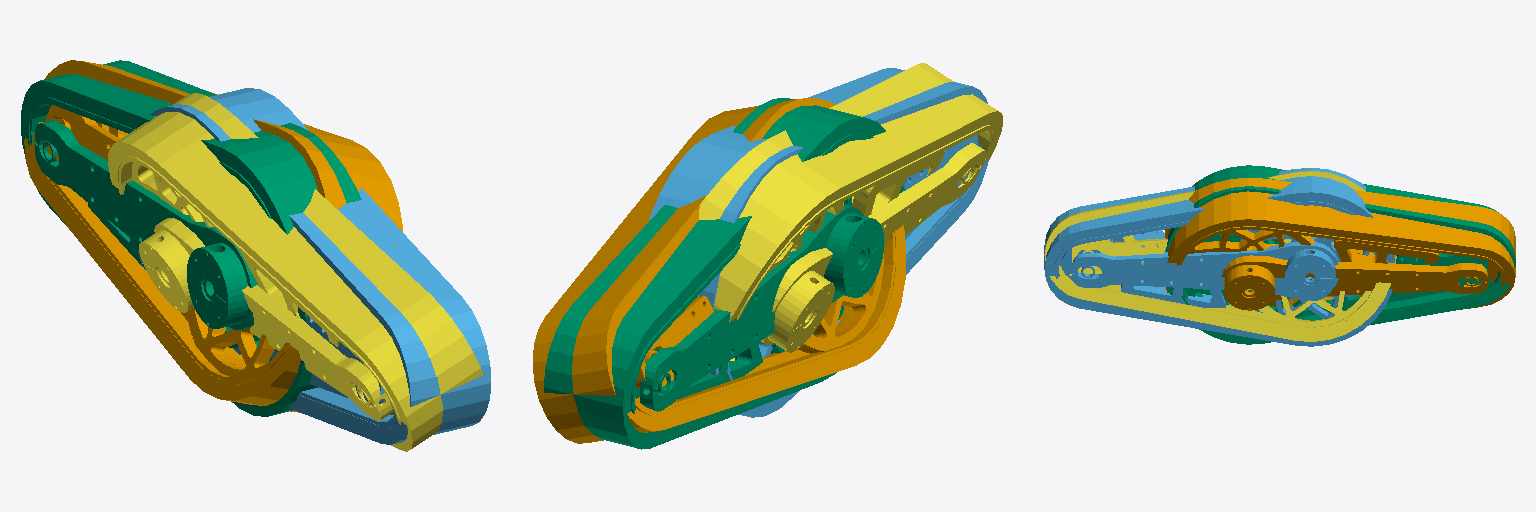
The robot description file, URDF, robot "NIFTi":
<?xml version="1.0" ?>
<!-- =================================================================================== -->
<!-- |    This document was autogenerated by xacro from [local-path]/dev/catkin_ws/src/jaguar_ws/nifti_robot_description/urdf/nifti_robot.xacro | -->
<!-- =================================================================================== -->
<robot name="NIFTi">
<!-- MEASURED CONSTANTS -->
	<!-- SPECIAL LINKS -->
	<!-- This is a virtual link that specifies the origin to which parts attachable to the top of the robot should be related. -->
	<link name="rear_right_box"/>
	<joint name="rear_right_box_j" type="fixed">
		<parent link="base_link"/>
		<child link="rear_right_box"/>
		<origin rpy="0 0 0" xyz="-0.379 -0.1265 0.185"/>
	</joint>
	<!-- INCLUDES -->
	<!-- The included models should have collision elements specified for all physical links to be filtered out by laser filtering. -->
	<!-- MACRO SPECIFICATIONS -->
	<!-- NIFTI ROBOT LINKS AND JOINTS SPECIFICATION -->
	<link name="base_link">
		<visual>
			<origin rpy="0 0 0" xyz="0 0 0"/>
			<geometry>
				<mesh filename="package://nifti_robot_description/meshes/body.dae" scale="1.0 1.0 1.0"/>
			</geometry>
		</visual>
		<collision>
			<origin rpy="0 0 0" xyz="-0.1220 0 0.118"/>
			<geometry>
				<box size="0.50017 0.24093 0.1390"/>
			</geometry>
		</collision>
		<collision>
			<origin rpy="0 0 0" xyz="0.157 0 0.118"/>
			<geometry>
				<box size="0.056 0.12093 0.1390"/>
			</geometry>
		</collision>
		<collision>
			<origin rpy="0 0 0.785398" xyz="0.144 -0.076 0.118"/>
			<geometry>
				<box size="0.083 0.040 0.1390"/>
			</geometry>
		</collision>
		<collision>
			<origin rpy="0 0 -0.785398" xyz="0.144 0.076 0.118"/>
			<geometry>
				<box size="0.083 0.040 0.1390"/>
			</geometry>
		</collision>
		<collision>
			<origin rpy="0 0 0" xyz="0 0.135 0.09"/>
			<geometry>
				<box size="0.055 0.040 0.08"/>
			</geometry>
		</collision>
		<collision>
			<origin rpy="0 0 0" xyz="0 0.155 0.013"/>
			<geometry>
				<box size="0.055 0.020 0.075"/>
			</geometry>
		</collision>
		<collision>
			<origin rpy="0 0 0" xyz="0 -0.135 0.09"/>
			<geometry>
				<box size="0.055 0.040 0.08"/>
			</geometry>
		</collision>
		<collision>
			<origin rpy="0 0 0" xyz="0 -0.155 0.013"/>
			<geometry>
				<box size="0.055 0.020 0.075"/>
			</geometry>
		</collision>
		<collision>
			<origin rpy="0 0 0" xyz="-0.13 0 0.418"/>
			<geometry>
				<box size="0.65 0.35 0.6"/>
			</geometry>
		</collision>
		<inertial>
			<origin rpy="0 0 0" xyz="-0.034 0 0.142"/>
			<mass value="6.746"/>
			<inertia ixx="0.0069904" ixy="0.00012271" ixz="-4.2725e-05" iyy="0.02129" iyz="-0.00010522" izz="0.025519"/>
		</inertial>
	</link>
	<link name="battery">
		<visual>
			<origin rpy="0 0 0" xyz="0 0 0"/>
			<geometry>
				<mesh filename="package://nifti_robot_description/meshes/battery.dae" scale="1.0 1.0 1.0"/>
			</geometry>
		</visual>
		<collision>
			<origin rpy="0 0 0" xyz="0 0 0.0410"/>
			<geometry>
				<box size="0.1450 0.1350 0.0820"/>
			</geometry>
		</collision>
		<inertial>
			<origin rpy="0 0 0" xyz="0 0 0.041"/>
			<mass value="3.18"/>
			<inertia ixx="0.0020793" ixy="0.0" ixz="0.0" iyy="0.0023127" iyz="0.0" izz="0.0032712"/>
		</inertial>
	</link>
	<joint name="battery_j" type="fixed">
		<parent link="base_link"/>
		<child link="battery"/>
		<origin rpy="0 0 0" xyz="-0.2836 -0.0221 0.0722"/>
	</joint>
	<link name="top_box">
		<visual>
			<origin rpy="0 0 0" xyz="0 0 0"/>
			<geometry>
				<mesh filename="package://nifti_robot_description/meshes/top_box.dae" scale="1.0 1.0 1.0"/>
			</geometry>
		</visual>
		<collision>
			<origin rpy="0 0 0" xyz="-0.0290 0 0.0315"/>
			<geometry>
				<box size="0.2000 0.1330 0.06252"/>
			</geometry>
		</collision>
		<collision>
			<origin rpy="0 0 0" xyz="-0.09824 0.04127 0.0690"/>
			<geometry>
				<box size="0.0440 0.0440 0.01303"/>
			</geometry>
		</collision>
		<collision>
			<origin rpy="0 0 0" xyz="-0.07383 -0.04222 0.07996"/>
			<geometry>
				<box size="0.03732 0.03523 0.03489"/>
			</geometry>
		</collision>
		<inertial>
			<origin rpy="0 0 0" xyz="0 0 0.041"/>
			<mass value="0.24"/>
			<inertia ixx="0.0026136" ixy="0.0" ixz="0.0" iyy="0.0049426" iyz="0.0" izz="0.0070334"/>
		</inertial>
	</link>
	<joint name="top_box_j" type="fixed">
		<parent link="rear_right_box"/>
		<child link="top_box"/>
		<!-- Origin of top box is 0.071 m from the front side. And top_box_j_x is distance from robot's back to top box' front. -->
		<origin rpy="0 0 0" xyz="0.372 0.0708 0.0"/>
	</joint>
	<link name="antenna">
		<visual>
			<origin rpy="0 0 0" xyz="0 0 0"/>
			<geometry>
				<mesh filename="package://nifti_robot_description/meshes/antenna.dae" scale="1.0 1.0 1.0"/>
			</geometry>
		</visual>
		<collision>
			<origin rpy="0 1.5707963267 0" xyz="-0.01864 0 0"/>
			<geometry>
				<cylinder length="0.03718" radius="0.008"/>
			</geometry>
		</collision>
		<collision>
			<origin rpy="0 0 0" xyz="-0.030 0 0.19053"/>
			<geometry>
				<cylinder length="0.38107" radius="0.008"/>
			</geometry>
		</collision>
		<inertial>
			<origin rpy="0 0 0" xyz="-0.022 0.0203 0.02917"/>
			<mass value="0.56"/>
			<inertia ixx="0.004878" ixy="-6.2341e-07" ixz="-7.4538e-07" iyy="0.00090164" iyz="-0.00014394" izz="0.0042946"/>
		</inertial>
	</link>
	<joint name="antenna_j" type="fixed">
		<parent link="base_link"/>
		<child link="antenna"/>
		<origin rpy="0 0 0" xyz="-0.3720 0.0789 0.1551"/>
	</joint>
	<link name="centroid"/>
    <joint name="centroid_j" type="fixed">
      <parent link="base_link"/>
      <child link="centroid"/>
      <origin rpy="0      0     0" xyz="0    0.0  0.0705"/>
      <limit effort="0" lower="0" upper="0" velocity="0"/>
    </joint>
	<link name="left_track">
		<visual>
			<origin rpy="1.5707963267 0 1.5707963267" xyz="0 0 -0.0705"/>
			<geometry>
				<mesh filename="package://nifti_robot_description/meshes/bogie.dae" scale="1.0 1.0 1.0"/>
			</geometry>
		</visual>
		<collision>
			<origin rpy="1.5707963267 0 1.5707963267" xyz="0 0 0.01855"/>
			<geometry>
				<box size="0.09728 0.18094 0.50000"/>
			</geometry>
		</collision>
		<collision>
			<origin rpy="1.5707963267 0 0" xyz="0.25 -0.015 0.01855"/>
			<geometry>
				<!-- enlarged because of laser filtering problems -->
				<cylinder length="0.11228" radius="0.09047"/>
			</geometry>
		</collision>
		<collision>
			<origin rpy="1.5707963267 0 0" xyz="-0.25 0 0.01855"/>
			<geometry>
				<cylinder length="0.09728" radius="0.09047"/>
			</geometry>
		</collision>
		<inertial>
			<origin rpy="0 0 0" xyz="0 0 0.0141"/>
			<mass value="6.06"/>
			<inertia ixx="0.002731" ixy="0.0" ixz="0.0" iyy="0.032554" iyz="1.5e-05" izz="0.031391"/>
		</inertial>
	</link>
	<joint name="left_track_j" type="revolute">
		<parent link="base_link"/>
		<child link="left_track"/>
		<axis xyz="0 1 0"/>
		<origin rpy="0 0.0 0" xyz="0 0.1985 0"/>
		<limit effort="0" lower="0" upper="0" velocity="4"/>
		<!--<limit lower="-0.7" upper="0.7" effort="0" velocity="4" />-->
	</joint>
	<link name="right_track">
		<visual>
			<origin rpy="1.5707963267 0 -1.5707963267" xyz="0 0 -0.0705"/>
			<geometry>
				<mesh filename="package://nifti_robot_description/meshes/bogie.dae" scale="1.0 1.0 1.0"/>
			</geometry>
		</visual>
		<collision>
			<origin rpy="1.5707963267 0 1.5707963267" xyz="0 0 0.01855"/>
			<geometry>
				<box size="0.09728 0.18094 0.50000"/>
			</geometry>
		</collision>
		<collision>
			<origin rpy="1.5707963267 0 0" xyz="0.25 0.015 0.01855"/>
			<geometry>
				<!-- enlarged because of laser filtering problems -->
				<cylinder length="0.11228" radius="0.09047"/>
			</geometry>
		</collision>
		<collision>
			<origin rpy="1.5707963267 0 0" xyz="-0.25 0 0.01855"/>
			<geometry>
				<cylinder length="0.09728" radius="0.09047"/>
			</geometry>
		</collision>
		<inertial>
			<origin rpy="0 0 0" xyz="0 0 0.0141"/>
			<mass value="6.06"/>
			<inertia ixx="0.002731" ixy="0.0" ixz="0.0" iyy="0.032554" iyz="1.5e-05" izz="0.031391"/>
		</inertial>
	</link>
	<joint name="right_track_j" type="revolute">
		<parent link="base_link"/>
		<child link="right_track"/>
		<axis xyz="0 1 0"/>
		<origin rpy="0 0.0 0" xyz="0 -0.1985 0"/>
		<limit effort="0" lower="0" upper="0" velocity="4"/>
		<!--<limit lower="-0.7" upper="0.7" effort="0" velocity="4" />-->
	</joint>
	<link name="front_left_flipper">
		<visual>
			<origin rpy="3.32575 0 1.5707963267" xyz="0 0 0"/>
			<geometry>
				<mesh filename="package://nifti_robot_description/meshes/flipper.dae" scale="1.0 1.0 1.0"/>
			</geometry>
		</visual>
		<collision>
			<origin rpy="1.5707963267 0 0" xyz="0 -0.0185 0"/>
			<geometry>
				<cylinder length="0.08681" radius="0.09047"/>
			</geometry>
		</collision>
		<collision>
			<origin rpy="1.5707963267 0 0" xyz="0.33 -0.0185 0.0"/>
			<geometry>
				<cylinder length="0.08681" radius="0.058"/>
			</geometry>
		</collision>
		<collision>
			<origin rpy="0 0.184162095 0.0" xyz="0.165 -0.0185 0.0325"/>
			<geometry>
				<box size="0.33 0.08681 0.11"/>
			</geometry>
		</collision>
		<collision>
			<origin rpy="0 -0.184162095 0.0" xyz="0.165 -0.0185 -0.0325"/>
			<geometry>
				<box size="0.33 0.08681 0.11"/>
			</geometry>
		</collision>
		<collision>
			<origin rpy="0 -0.02 0.0" xyz="0.136 -0.0185 0.004"/>
			<geometry>
				<box size="0.20 0.08681 0.07"/>
			</geometry>
		</collision>
		<inertial>
			<origin rpy="0 0 0" xyz="0.08 0 0.0"/>
			<mass value="0.75"/>
			<inertia ixx="0.0017491" ixy="2.8512e-07" ixz="0.0018277" iyy="0.012277" iyz="-3.6288e-07" izz="0.010941"/>
		</inertial>
	</link>
	<joint name="front_left_flipper_j" type="continuous">
		<parent link="left_track"/>
		<child link="front_left_flipper"/>
		<axis xyz="0 1 0"/>
		<origin rpy="0 0.1937 0" xyz="0.25 0.0735 0.0195"/>
        <limit effort="-1" lower="-1e+16" upper="+1e+16" velocity="1"/>
        <dynamics damping=".5"/>
	</joint>
	<link name="front_right_flipper">
		<visual>
			<origin rpy="3.32575 0 -1.5707963267" xyz="0 0 0"/>
			<geometry>
				<mesh filename="package://nifti_robot_description/meshes/flipper.dae" scale="1.0 1.0 1.0"/>
			</geometry>
		</visual>
		<collision>
			<origin rpy="1.5707963267 0 0" xyz="0 0.0185 0"/>
			<geometry>
				<cylinder length="0.08681" radius="0.09047"/>
			</geometry>
		</collision>
		<collision>
			<origin rpy="1.5707963267 0 0" xyz="-0.33 0.0185 0.0"/>
			<geometry>
				<cylinder length="0.08681" radius="0.058"/>
			</geometry>
		</collision>
		<collision>
			<origin rpy="0 0.184162095 3.1415926534" xyz="-0.165 0.0185 0.0325"/>
			<geometry>
				<box size="0.33 0.08681 0.11"/>
			</geometry>
		</collision>
		<collision>
			<origin rpy="0 -0.184162095 3.1415926534" xyz="-0.165 0.0185 -0.0325"/>
			<geometry>
				<box size="0.33 0.08681 0.11"/>
			</geometry>
		</collision>
		<collision>
			<origin rpy="0 -0.02 3.1415926534" xyz="-0.136 0.0185 0.004"/>
			<geometry>
				<box size="0.20 0.08681 0.07"/>
			</geometry>
		</collision>
		<inertial>
			<origin rpy="0 0 0" xyz="-0.08 0 0.0"/>
			<mass value="0.75"/>
			<inertia ixx="0.0017491" ixy="2.8512e-07" ixz="0.0018277" iyy="0.012277" iyz="-3.6288e-07" izz="0.010941"/>
		</inertial>
	</link>
	<joint name="front_right_flipper_j" type="continuous">
		<parent link="right_track"/>
		<child link="front_right_flipper"/>
		<axis xyz="0 1 0"/>
		<origin rpy="0 -2.9479 0" xyz="0.25 -0.0735 0.0195"/>
        <limit effort="-1" lower="-1e+16" upper="+1e+16" velocity="1"/>
        <dynamics damping=".5"/>
	</joint>
	<link name="rear_left_flipper">
		<visual>
			<origin rpy="3.32575 0 1.5707963267" xyz="0 0 0"/>
			<geometry>
				<mesh filename="package://nifti_robot_description/meshes/flipper.dae" scale="1.0 1.0 1.0"/>
			</geometry>
		</visual>
		<collision>
			<origin rpy="1.5707963267 0 0" xyz="0 -0.0 0"/>
			<geometry>
				<cylinder length="0.04981" radius="0.09047"/>
			</geometry>
		</collision>
		<collision>
			<origin rpy="1.5707963267 0 0" xyz="0.33 -0.0 0.0"/>
			<geometry>
				<cylinder length="0.04981" radius="0.029"/>
			</geometry>
		</collision>
		<collision>
			<origin rpy="0 0.184162095 0.0" xyz="0.165 -0.0 0.0325"/>
			<geometry>
				<box size="0.33 0.04981 0.055"/>
			</geometry>
		</collision>
		<collision>
			<origin rpy="0 -0.184162095 0.0" xyz="0.165 -0.0 -0.0325"/>
			<geometry>
				<box size="0.33 0.04981 0.055"/>
			</geometry>
		</collision>
		<collision>
			<origin rpy="0 -0.02 0.0" xyz="0.136 -0.0 0.004"/>
			<geometry>
				<box size="0.20 0.04981 0.07"/>
			</geometry>
		</collision>
		<inertial>
			<origin rpy="0 0 0" xyz="0.08 0 0.0"/>
			<mass value="0.75"/>
			<inertia ixx="0.0017491" ixy="2.8512e-07" ixz="0.0018277" iyy="0.012277" iyz="-3.6288e-07" izz="0.010941"/>
		</inertial>
	</link>
	<joint name="rear_left_flipper_j" type="continuous">
		<parent link="left_track"/>
		<child link="rear_left_flipper"/>
		<axis xyz="0 1 0"/>
		<origin rpy="0 2.9479 0" xyz="-0.25 0.0735 0.0195"/> <!-- 2.9479 -->
        <limit effort="-1" lower="-1e+16" upper="+1e+16" velocity="1"/>
        <dynamics damping=".5"/>
	</joint>
	<link name="rear_right_flipper">
		<visual>
			<origin rpy="3.32575 0 -1.5707963267" xyz="0 0 0"/>
			<geometry>
				<mesh filename="package://nifti_robot_description/meshes/flipper.dae" scale="1.0 1.0 1.0"/>
			</geometry>
		</visual>
		<collision>
			<origin rpy="1.5707963267 0 0" xyz="0 0.0 0"/>
			<geometry>
				<cylinder length="0.04981" radius="0.09047"/>
			</geometry>
		</collision>
		<collision>
			<origin rpy="1.5707963267 0 0" xyz="-0.33 0.0 0.0"/>
			<geometry>
				<cylinder length="0.04981" radius="0.029"/>
			</geometry>
		</collision>
		<collision>
			<origin rpy="0 0.184162095 3.1415926534" xyz="-0.165 0.0 0.0325"/>
			<geometry>
				<box size="0.33 0.04981 0.055"/>
			</geometry>
		</collision>
		<collision>
			<origin rpy="0 -0.184162095 3.1415926534" xyz="-0.165 0.0 -0.0325"/>
			<geometry>
				<box size="0.33 0.04981 0.055"/>
			</geometry>
		</collision>
		<collision>
			<origin rpy="0 -0.02 3.1415926534" xyz="-0.136 0.0 0.004"/>
			<geometry>
				<box size="0.20 0.04981 0.07"/>
			</geometry>
		</collision>
		<inertial>
			<origin rpy="0 0 0" xyz="-0.08 0 0.0"/>
			<mass value="0.75"/>
			<inertia ixx="0.0017491" ixy="2.8512e-07" ixz="0.0018277" iyy="0.012277" iyz="-3.6288e-07" izz="0.010941"/>
		</inertial>
	</link>
	<joint name="rear_right_flipper_j" type="continuous">
		<parent link="right_track"/>
		<child link="rear_right_flipper"/>
		<axis xyz="0 1 0"/>
        <origin rpy="0 -0.1937 0" xyz="-0.25 -0.0735 0.0195"/> <!-- -0.1937 -->
        <limit effort="-1" lower="-1e+16" upper="+1e+16" velocity="1"/>
        <dynamics damping=".5"/>
	</joint>
	<link name="front_left_flipper_end_point"/>
	<joint name="front_left_flipper_end_point_j" type="fixed">
		<parent link="front_left_flipper"/>
		<child link="front_left_flipper_end_point"/>
		<origin rpy="0 0.1937 0" xyz="0.3476 0 0"/>
	</joint>
	<link name="front_right_flipper_end_point"/>
	<joint name="front_right_flipper_end_point_j" type="fixed">
		<parent link="front_right_flipper"/>
		<child link="front_right_flipper_end_point"/>
		<origin rpy="0 0.1937 0" xyz="0.3476 0 0"/>
	</joint>
	<link name="laser">
		<visual>
			<origin rpy="1.5707963267 0 -1.5707963267" xyz="0 0 0"/>
			<geometry>
				<mesh filename="package://nifti_robot_description/meshes/laser.dae" scale="1.0 1.0 1.0"/>
			</geometry>
		</visual>
		<collision>
			<origin rpy="1.5707963267 0 -1.5707963267" xyz="0 0 -0.04"/>
			<geometry>
				<box size="0.1159 0.16826 0.1159"/>
			</geometry>
		</collision>
		<inertial>
			<origin rpy="0 0 0" xyz="0 0 -0.07"/>
			<mass value="1.1"/>
			<inertia ixx="0.0031194" ixy="-2.221e-06" ixz="-1.1577e-06" iyy="0.0031389" iyz="-1.153e-05" izz="0.0017656"/>
		</inertial>
	</link>
	<joint name="laser_j" type="fixed">
		<parent link="base_link"/>
		<child link="laser"/>
		<axis xyz="1 0 0"/>
		<origin rpy="3.1415927 0 0" xyz="0.2502 0.0 0.1407"/>
	</joint>
	<link name="imu">
		<visual>
			<origin rpy="0 0 0" xyz="0 0 0"/>
			<geometry>
				<box size="0.05 0.05 0.05"/>
			</geometry>
			<material name="invisible_color">
				<color rgba="1 0 0 0.5"/>
			</material>
		</visual>
		<inertial>
			<origin rpy="0 0 0" xyz="0 0 0"/>
			<mass value="1e-5"/>
			<inertia ixx="1e-3" ixy="1e-6" ixz="1e-6" iyy="1e-3" iyz="1e-6" izz="1e-3"/>
		</inertial>
	</link>
	<joint name="imu_j" type="fixed">
		<parent link="base_link"/>
		<child link="imu"/>
		<origin rpy="3.141592 0 0" xyz="0 0 0.1500"/>
	</joint>
	<link name="omnicam">
		<visual>
			<origin rpy="0 0 0" xyz="0 0 0"/>
			<geometry>
				<mesh filename="package://nifti_robot_description/meshes/omnicam.dae" scale="1.0 1.0 1.0"/>
			</geometry>
		</visual>
		<collision>
			<origin rpy="0 0 0" xyz="-0.003 -0.0015 0.003"/>
			<geometry>
				<cylinder length="0.137" radius="0.068"/>
			</geometry>
		</collision>
		<inertial>
			<origin rpy="0 0 0" xyz="0 0 0"/>
			<mass value="2.414"/>
			<inertia ixx="0.0023726" ixy="-3.0562e-06" ixz="-2.3418e-06" iyy="0.0023716" iyz="5.1202e-06" izz="0.0016667"/>
		</inertial>
	</link>
	<joint name="omnicam_j" type="fixed">
		<parent link="top_box"/>
		<child link="omnicam"/>
		<origin rpy="0 0 -0.628318530" xyz="0.0023 -0.0017 0.1292"/>
	</joint>

      <!-- KINECT -->
      <link name="camera_link">
        <inertial_sphere mass="0.01" diameter="0.07" />
        <visual>
          <origin xyz="0 0 0.0" rpy="0 0 0" />
          <geometry>
            <mesh filename="package://hector_sensors_description/meshes/kinect_camera/kinect_camera_simple.dae"/>
          </geometry>
        </visual>
        <collision>

          <geometry>
            <mesh filename="package://hector_sensors_description/meshes/kinect_camera/kinect_camera_simple.stl"/>
          </geometry>
        </collision>
      </link>

      <joint name="camera_joint" type="fixed">
        <origin xyz="0.3 0 0.27" rpy="0 0.0 0"/> <!-- 0.24 0 0.315 -->
        <parent link="base_link"/>
        <child link="camera_link"/>
      </joint>

      <joint name="camera_depth_joint" type="fixed">
        <origin xyz="0.0 -0.02 0.0" rpy="0 0 0" />
        <parent link="camera_link" />
        <child link="camera_depth_frame"/>
      </joint>

      <link name="camera_depth_frame"/>

      <joint name="camera_depth_optical_joint" type="fixed">
        <origin xyz="0 0 0" rpy="-1.57 0.0 -1.57" />
        <parent link="camera_depth_frame" />
        <child link="camera_depth_optical_frame"/>
      </joint>

      <link name="camera_depth_optical_frame"/>

      <joint name="camera_rgb_joint" type="fixed">
        <origin xyz="0.0 -0.0125 0.0" rpy="0 0 0" />
        <parent link="camera_link" />
        <child link="camera_rgb_frame"/>
      </joint>

      <link name="camera_rgb_frame"/>

      <joint name="camera_rgb_optical_joint" type="fixed">
        <origin xyz="0 0 0" rpy="-1.57 0.0 -1.57" />
        <parent link="camera_rgb_frame" />
        <child link="camera_rgb_optical_frame"/>
      </joint>

      <link name="camera_rgb_optical_frame"/>

      <gazebo reference="camera_depth_frame">
        <sensor type="depth" name="camera">
          <update_rate>20</update_rate>
          <camera>
            <horizontal_fov>1.05</horizontal_fov>
            <image>
              <format>R8G8B8</format>
              <width>640</width>
              <height>480</height>
            </image>
            <clip>
              <near>0.1</near>
              <far>3</far>
            </clip>
          </camera>
          <plugin name="camera_camera_controller" filename="libgazebo_ros_openni_kinect.so">
          <!--
          host:
          <plugin name="camera_camera_controller" filename="[local-path]/dev/catkin_ws/devel/lib/libgazebo_ros_openni_kinect.so">
          usual:
          <plugin name="camera_camera_controller" filename="libgazebo_ros_openni_kinect.so">
          or
          <plugin name="camera_camera_controller" filename="/opt/ros/noetic/lib/libgazebo_ros_openni_kinect.so">
          -->
            <alwaysOn>true</alwaysOn>
            <updateRate>20</updateRate>
            <imageTopicName>camera/rgb/image_raw</imageTopicName>
            <cameraInfoTopicName>camera/rgb/camera_info</cameraInfoTopicName>
            <depthImageTopicName>camera/depth/image_raw</depthImageTopicName>
            <depthImageCameraInfoTopicName>camera/depth/camera_info</depthImageCameraInfoTopicName>
            <frameName>camera_depth_optical_frame</frameName>
            <distortion_k1>0.0</distortion_k1>
            <distortion_k2>0.0</distortion_k2>
            <distortion_k3>0.0</distortion_k3>
            <distortion_t1>0.0</distortion_t1>
            <distortion_t2>0.0</distortion_t2>
          </plugin>
        </sensor>
      </gazebo>
   <!-- END Kinect -->

  <gazebo reference="left_track_j">
    <disableFixedJointLumping>true</disableFixedJointLumping>
  </gazebo>

  <gazebo reference="right_track_j">
    <disableFixedJointLumping>true</disableFixedJointLumping>
  </gazebo>

	<gazebo>
            <!-- <plugin name="jaguar_plugin" filename="
            [local-path]/dev/catkin_ws/src/jaguar_ws/plugins/flipper_control/build/libjaguar_plugin.so"> -->
            <plugin name="jaguar_plugin" filename="/usr/lib/libjaguar_plugin.so">
            <velocity>0</velocity>
            <flipperTopicName>/cmd_flipper</flipperTopicName>
            <right_front_joint>front_right_flipper_j</right_front_joint>
            <left_front_joint>front_left_flipper_j</left_front_joint>
            <right_rear_joint>rear_right_flipper_j</right_rear_joint>
            <left_rear_joint>rear_left_flipper_j</left_rear_joint>
            <updateRate>0.0</updateRate>>
        </plugin>
  </gazebo>

  <gazebo>
          <plugin filename="libSimpleTrackedVehiclePlugin.so"
            name="simple_tracked_vehicle">
                <body>base_link</body>
                <cmdVelTopicName>/cmd_vel</cmdVelTopicName>
                <left_track>left_track</left_track>
                <right_track>right_track</right_track>
                <rear_left_track>rear_left_flipper</rear_left_track>
                <rear_right_track>rear_right_flipper</rear_right_track>
                <front_left_track>front_left_flipper</front_left_track>
                <front_right_track>front_right_flipper</front_right_track>
                <track_mu>1</track_mu>
                <track_mu2>0.5</track_mu2>
                <tracks_separation>0.6</tracks_separation>
                <steering_efficiency>0.5</steering_efficiency>
        </plugin>
  </gazebo>


      <gazebo>
        <plugin name="gazebo_ros_imu_controller" filename="libgazebo_ros_imu.so">
          <robotNamespace></robotNamespace>
          <topicName>imu</topicName>
          <serviceName>imu/service</serviceName>
          <bodyName>base_link</bodyName>
          <gaussianNoise>0</gaussianNoise>
          <rpyOffsets>0 0 0</rpyOffsets>
          <updateRate>20.0</updateRate>
          <alwaysOn>true</alwaysOn>
          <gaussianNoise>0</gaussianNoise>
        </plugin>
    </gazebo>
  <!---->
</robot>

--- What the picture shows (computed from the rendered views, not written in the file) ---
Views: 3 orthographic renders of the robot side by side, from view 1: azimuth 30°, elevation 25°; view 2: azimuth 150°, elevation 25°; view 3: azimuth 270°, elevation 25°.
Model NIFTi with 22 links and 21 joints (2 revolute, 4 continuous, 15 fixed), rooted at base_link, posed all joints at 0.
Visible links, largest first — view 1: rear_right_flipper, rear_left_flipper, front_left_flipper, front_right_flipper; view 2: rear_left_flipper, rear_right_flipper, front_left_flipper, front_right_flipper; view 3: front_left_flipper, front_right_flipper, rear_right_flipper, rear_left_flipper.
Link boxes in pixels (x1,y1,x2,y2): rear_right_flipper: (108, 93, 482, 451); rear_left_flipper: (21, 60, 361, 416); front_left_flipper: (24, 60, 402, 412); front_right_flipper: (129, 88, 490, 444); rear_left_flipper: (544, 98, 903, 449); rear_right_flipper: (699, 63, 1002, 374); front_left_flipper: (533, 98, 905, 443); front_right_flipper: (649, 68, 988, 417); front_left_flipper: (1165, 178, 1515, 310); front_right_flipper: (1044, 168, 1394, 346); rear_right_flipper: (1044, 171, 1390, 341); rear_left_flipper: (1165, 165, 1515, 344).
Bounding box of the posed robot: 6.16 × 23.88 × 9.14 m (x, y, z).
4 mesh visuals loaded from 9 distinct referenced files (1 Collada DAE); not drawn: 9 (reference not matched to a file when rendering).